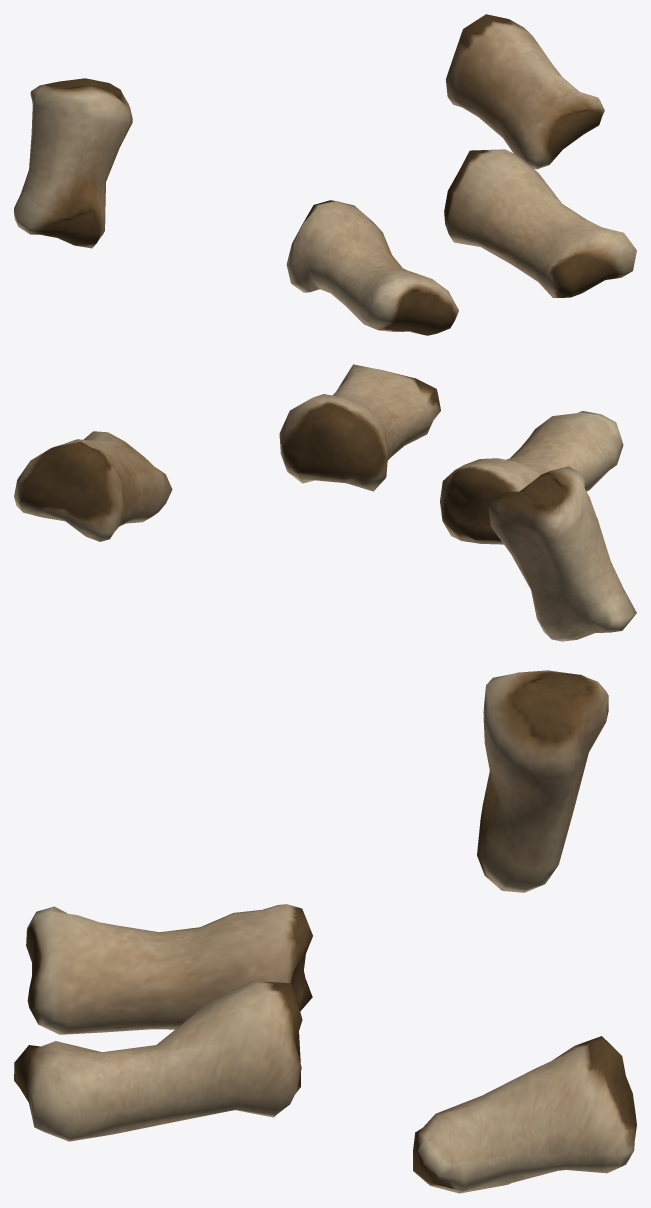
The model's file is Middle Phalanges.glb.
3 views of the same model, one above another, from view 1: azimuth 30°, elevation 25°; view 2: azimuth 150°, elevation 25°; view 3: azimuth 270°, elevation 25° (orthographic). The views are drawn at different scales.
Visible parts, largest first — view 1: polySurface38, polySurface36, polySurface39, polySurface37; view 2: polySurface36, polySurface38, polySurface39, polySurface37; view 3: polySurface38, polySurface37, polySurface39, polySurface36.
Part boxes in pixels (<box>): polySurface38: <box>444,149,636,297</box>; polySurface36: <box>14,78,132,248</box>; polySurface39: <box>446,14,604,169</box>; polySurface37: <box>286,200,458,335</box>; polySurface36: <box>488,466,636,641</box>; polySurface38: <box>279,364,440,491</box>; polySurface39: <box>14,431,172,541</box>; polySurface37: <box>440,411,623,544</box>; polySurface38: <box>14,981,302,1141</box>; polySurface37: <box>26,904,312,1034</box>; polySurface39: <box>413,1036,636,1193</box>; polySurface36: <box>477,670,608,892</box>.
Size of the model in its own units: 48.75 by 14.72 by 34.27.
1 material, 1 textured.
